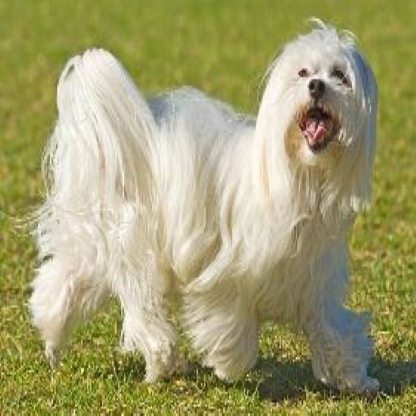maltese: (24, 15, 386, 394)
